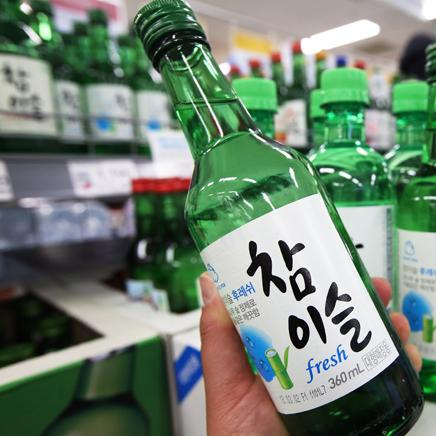soju: (117, 3, 430, 436)
